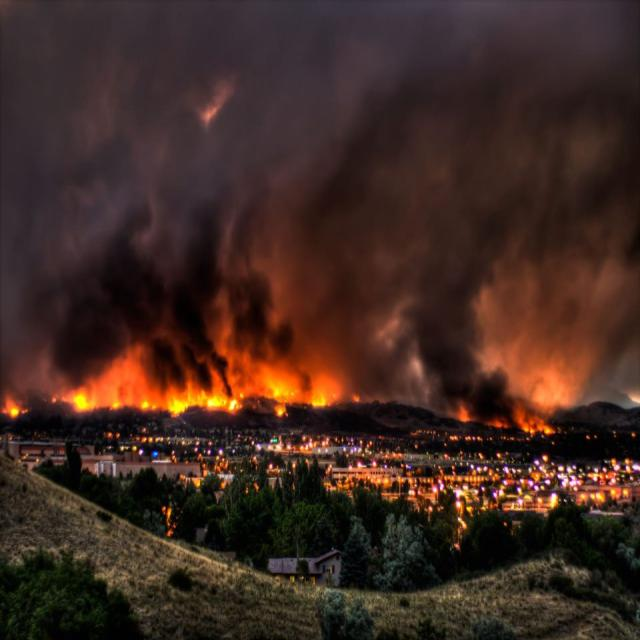Fire: (60, 373, 244, 416), (452, 400, 557, 442), (267, 382, 353, 414), (7, 397, 21, 420)
Smoke: (24, 16, 630, 374)
